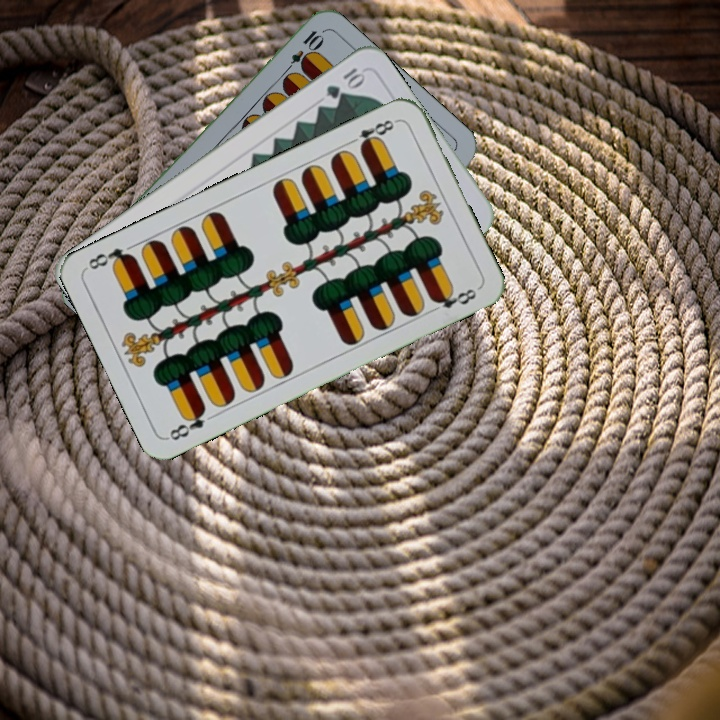E10: (279, 26, 325, 78)
E8: (345, 115, 401, 152), (164, 403, 209, 443)
G10: (322, 63, 368, 102)
